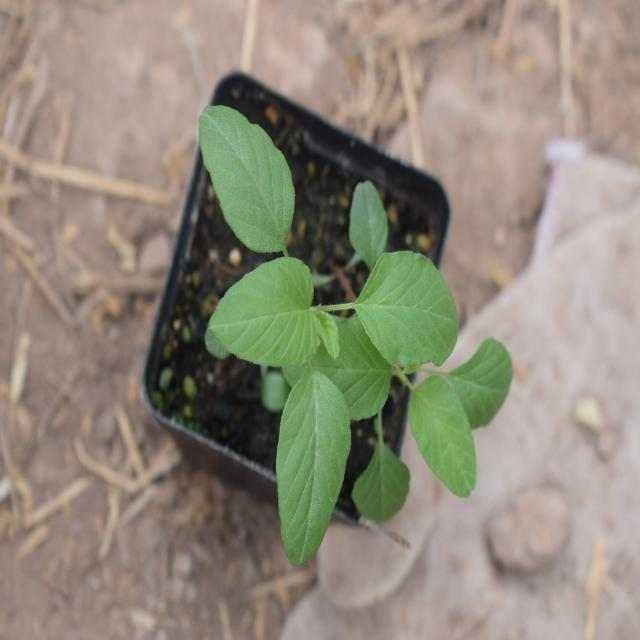pigweed: (187, 116, 449, 540)
